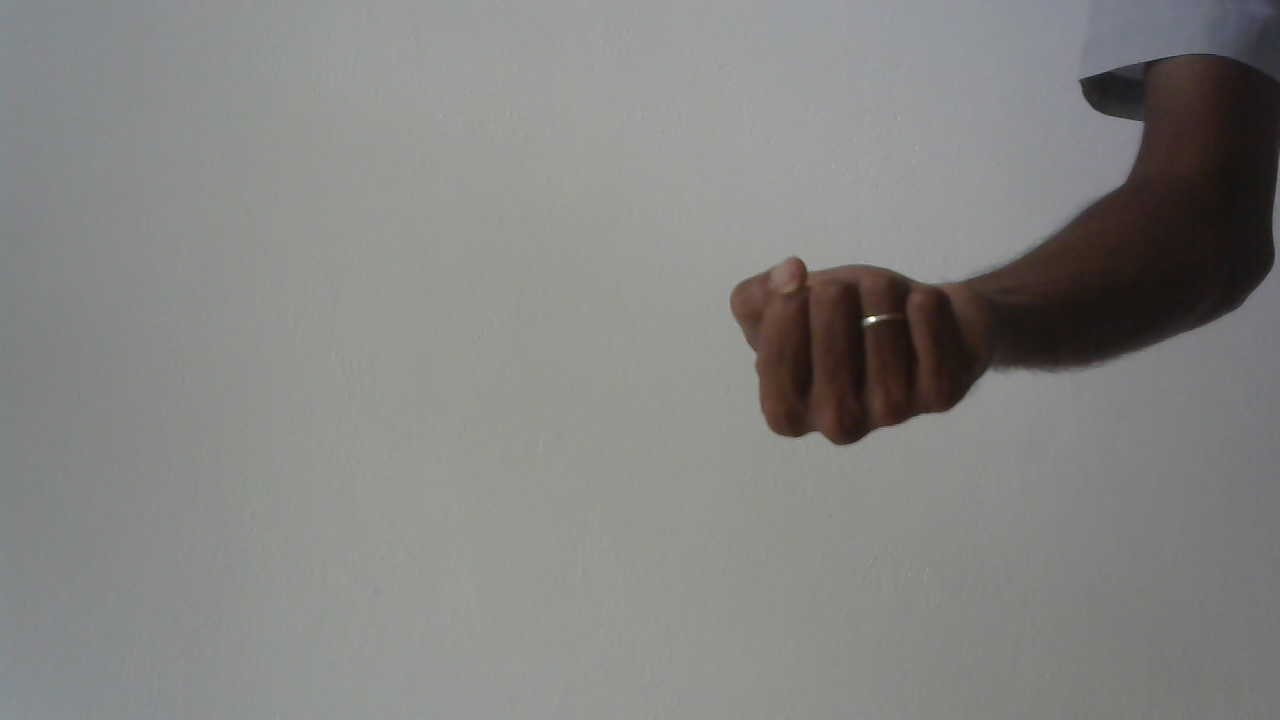yes: (714, 235, 1017, 453)
